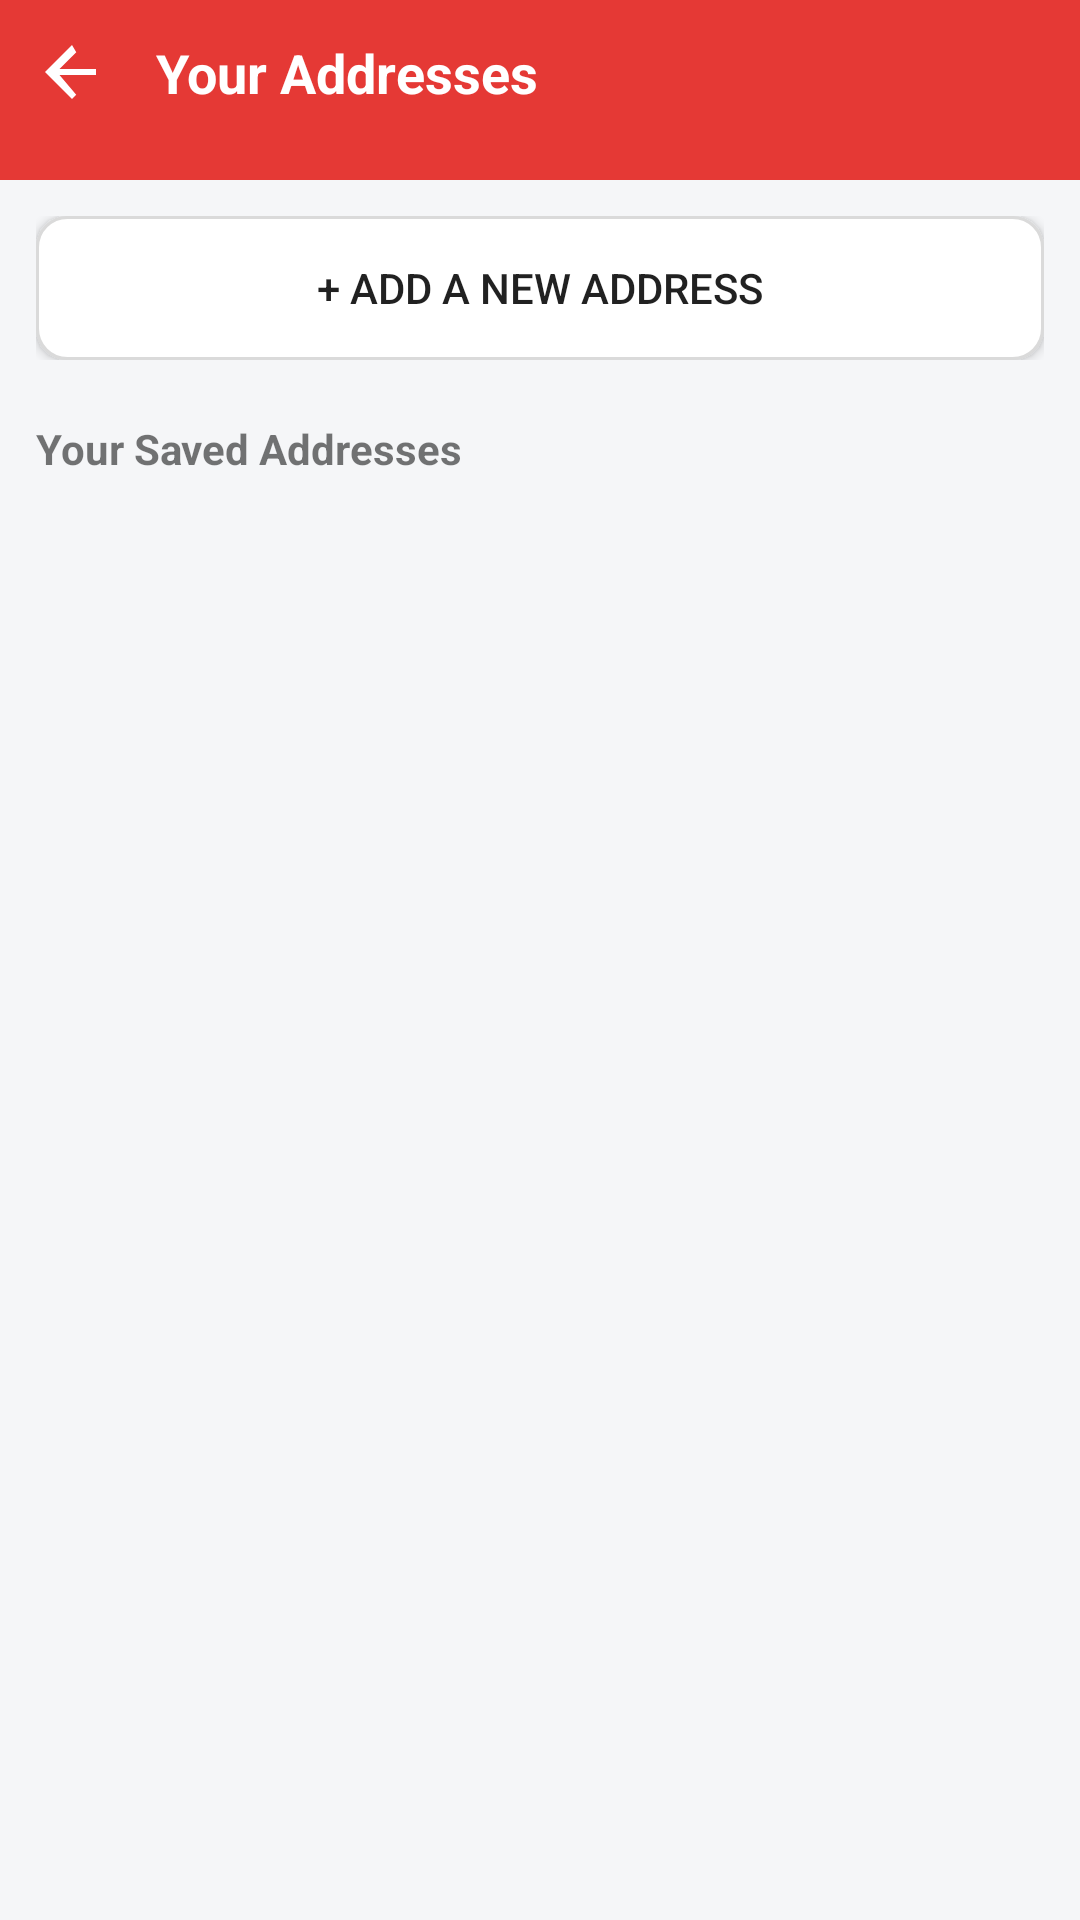

Where to tap for icons on this 1080w x 1920h app screen, as (x,y):
back: (70,72)
